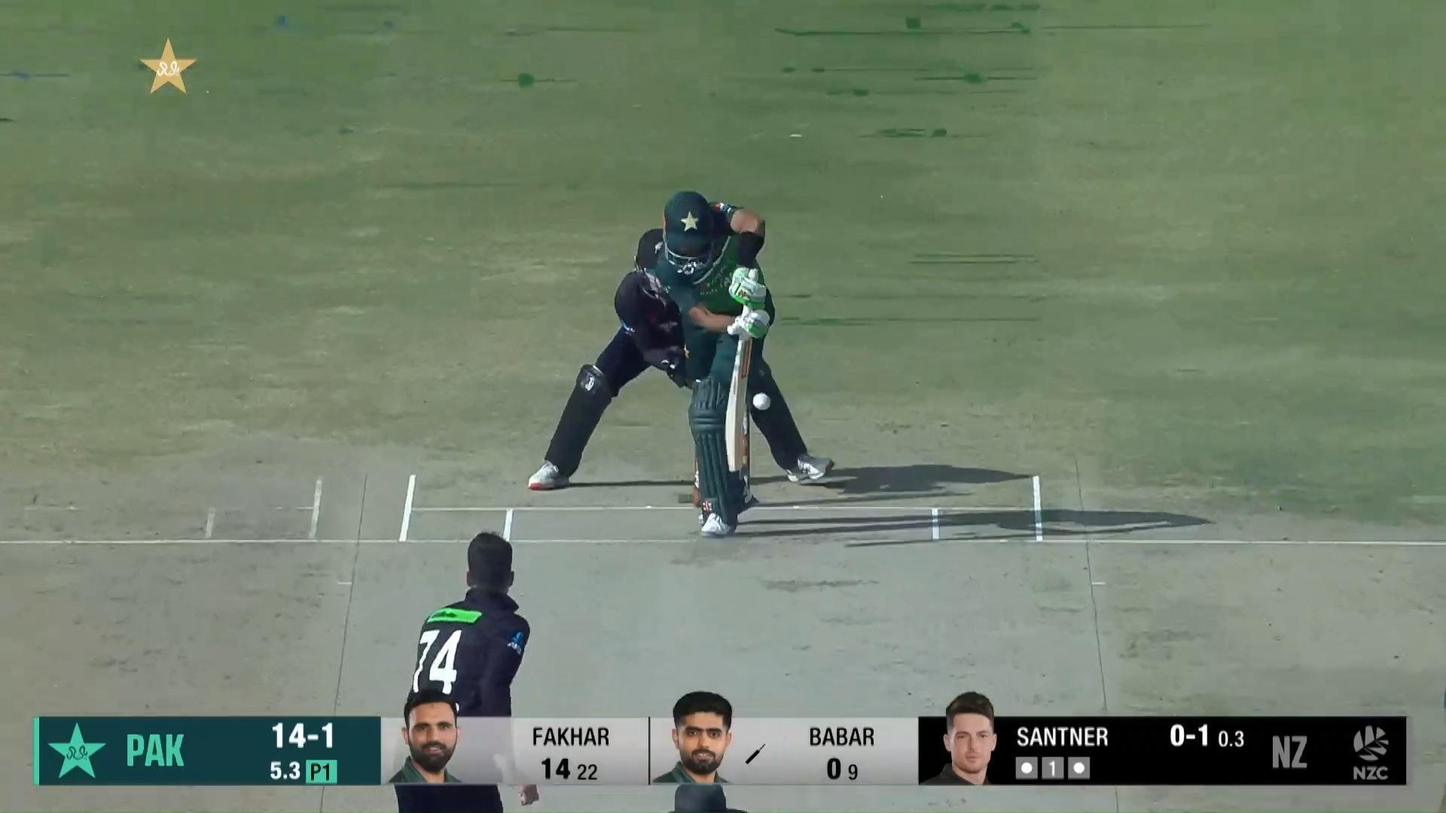BM 1: (655, 189, 766, 538)
BO: (392, 531, 539, 813)
